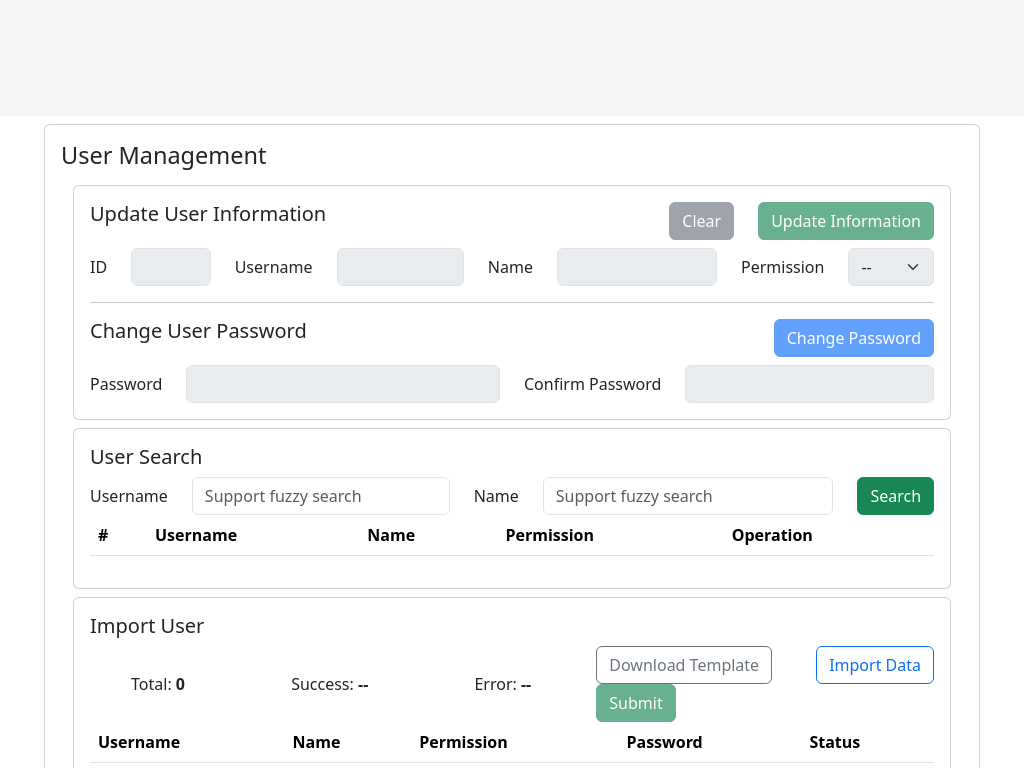
UserManage Component › handles successful password change
(page scrolled)
In the password field labelled "Password": x=343, y=384 [186,365,500,403], type "newpassword"
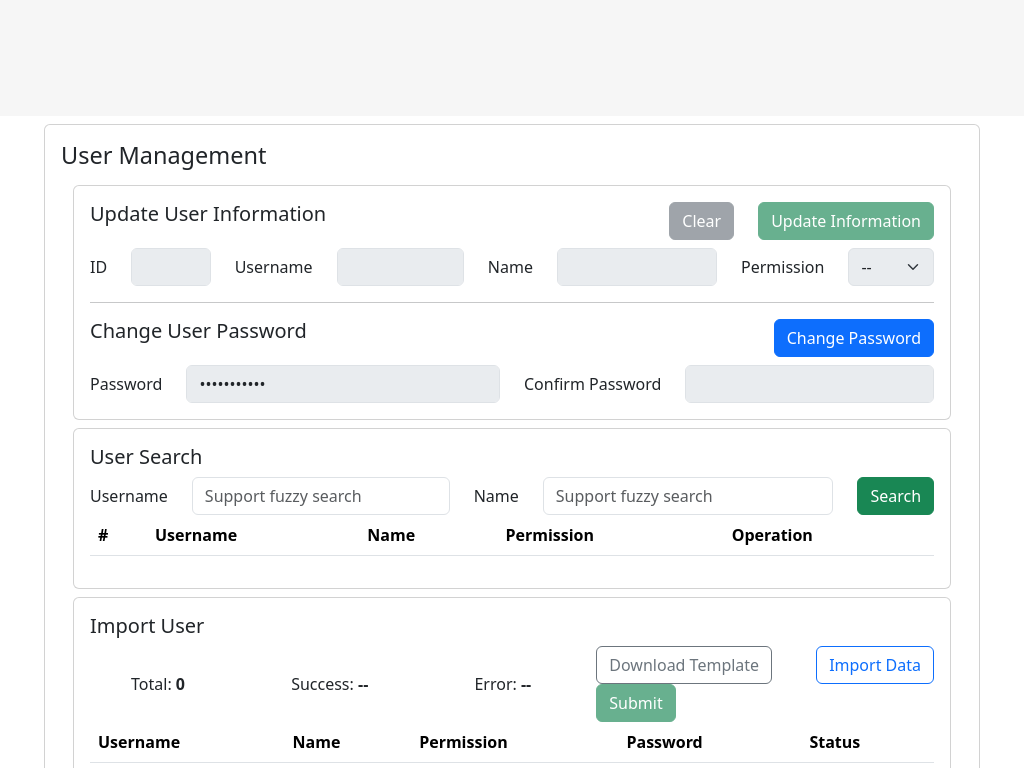
In the password field labelled "Confirm Password": x=810, y=384 [685,365,934,403], type "newpassword"
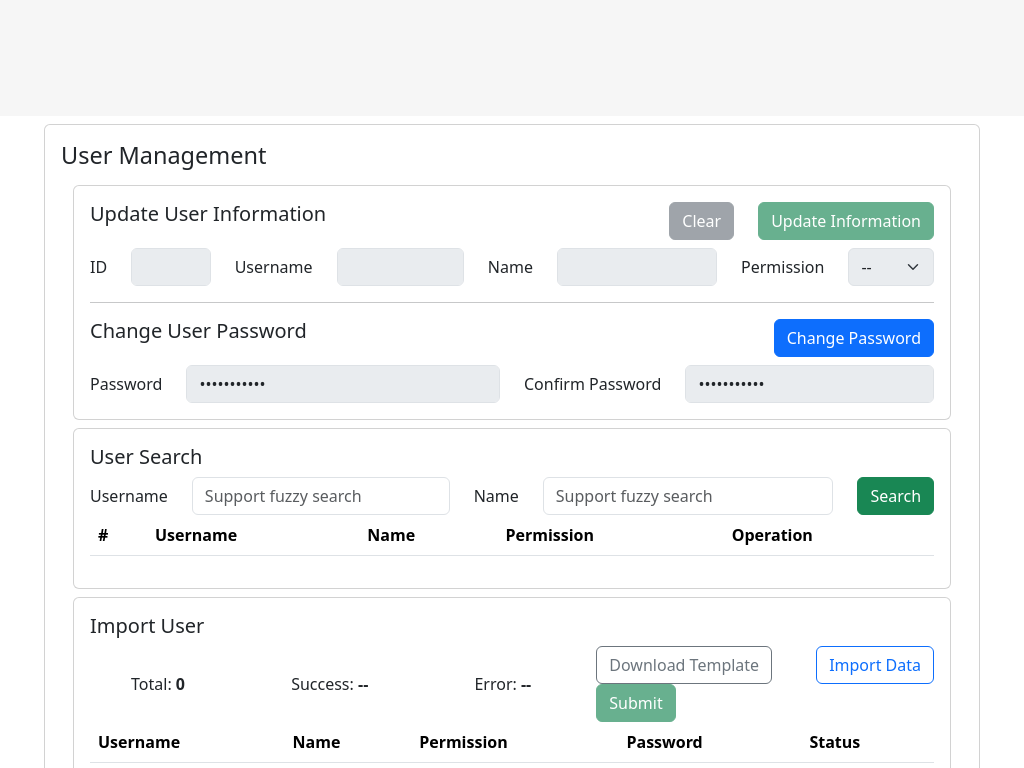
Click the button "Change Password": x=854, y=338 [774,319,934,357]
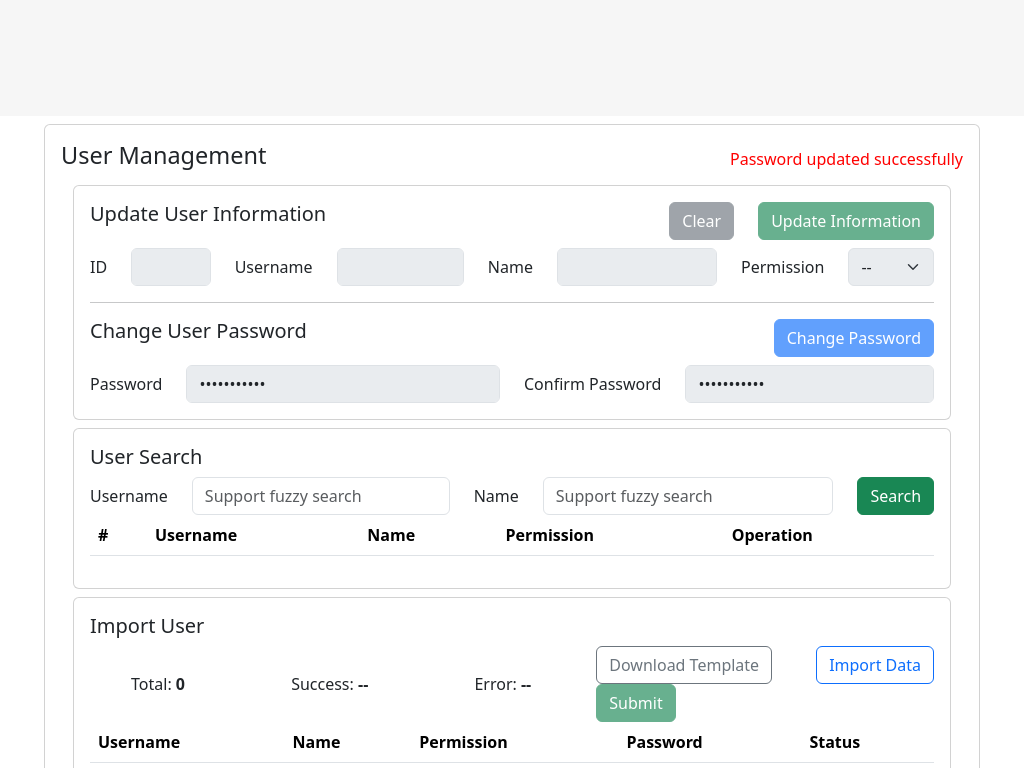
Result: the text "Password updated successfully" is shown at [730,147,963,171]
